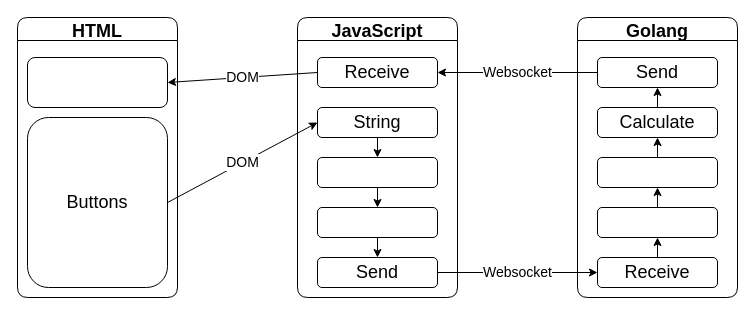
This 755x315 diagram has some shape labels left out. Each missing label, with the centre of its shape:
"Parse" goes at point 657,222.
"Refactor" goes at point 657,172.
"Screen" goes at point 97,82.
"Translation" goes at point 377,222.
"Validation" goes at point 377,172.
